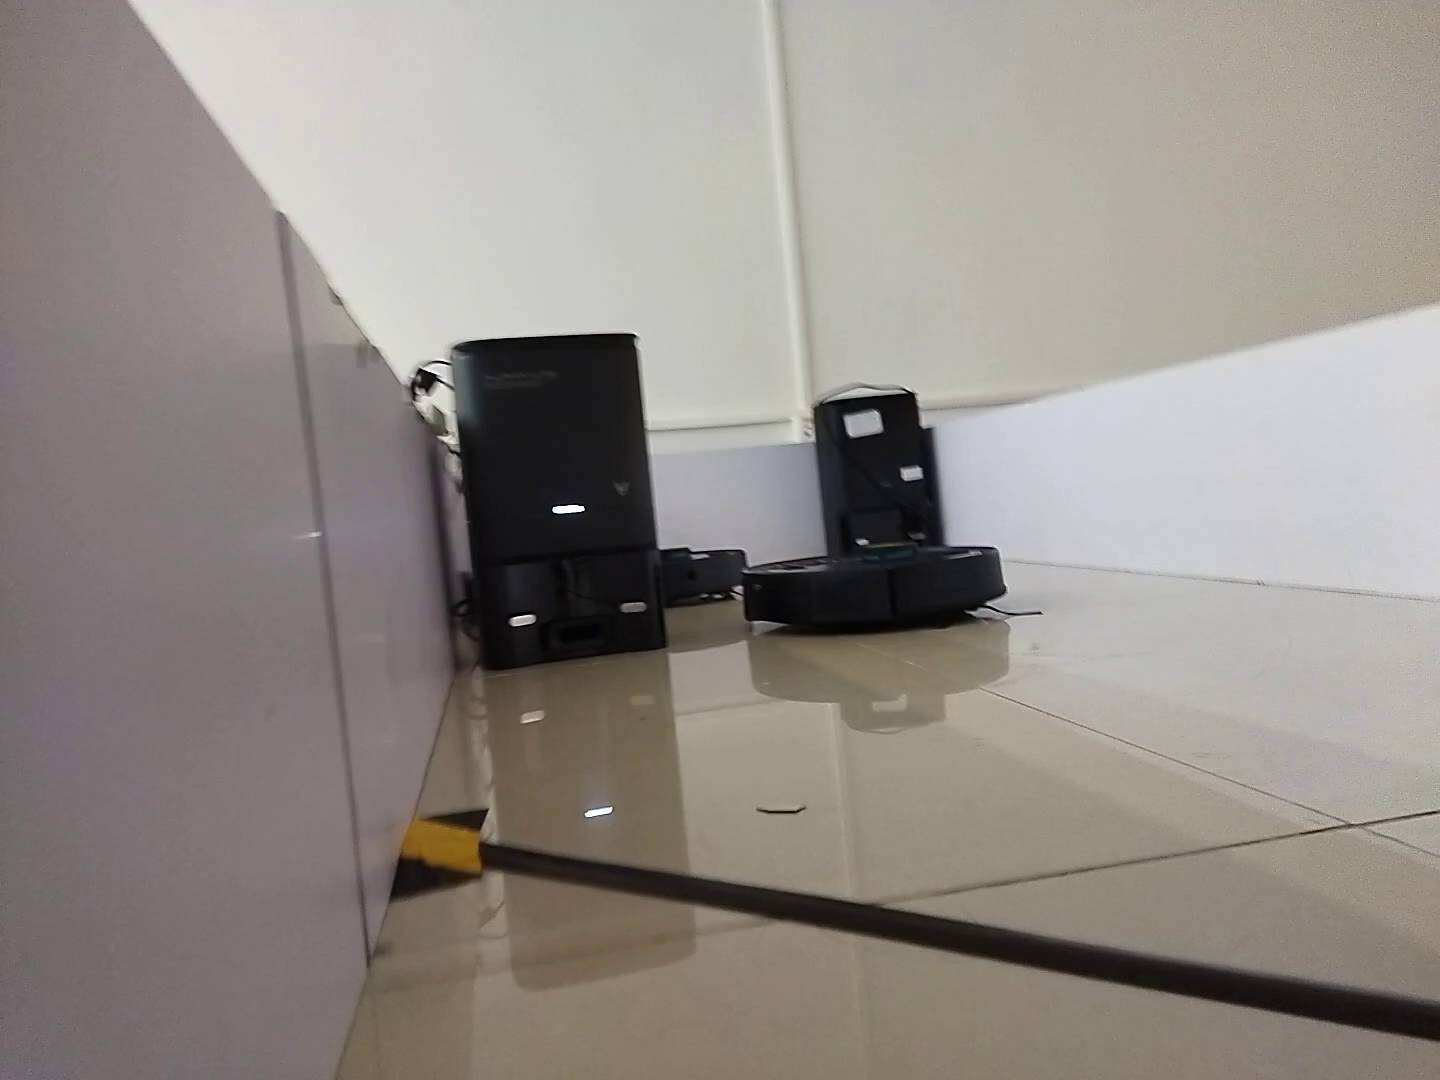dust collecting barrel: (448, 334, 670, 670), (811, 393, 938, 556)
